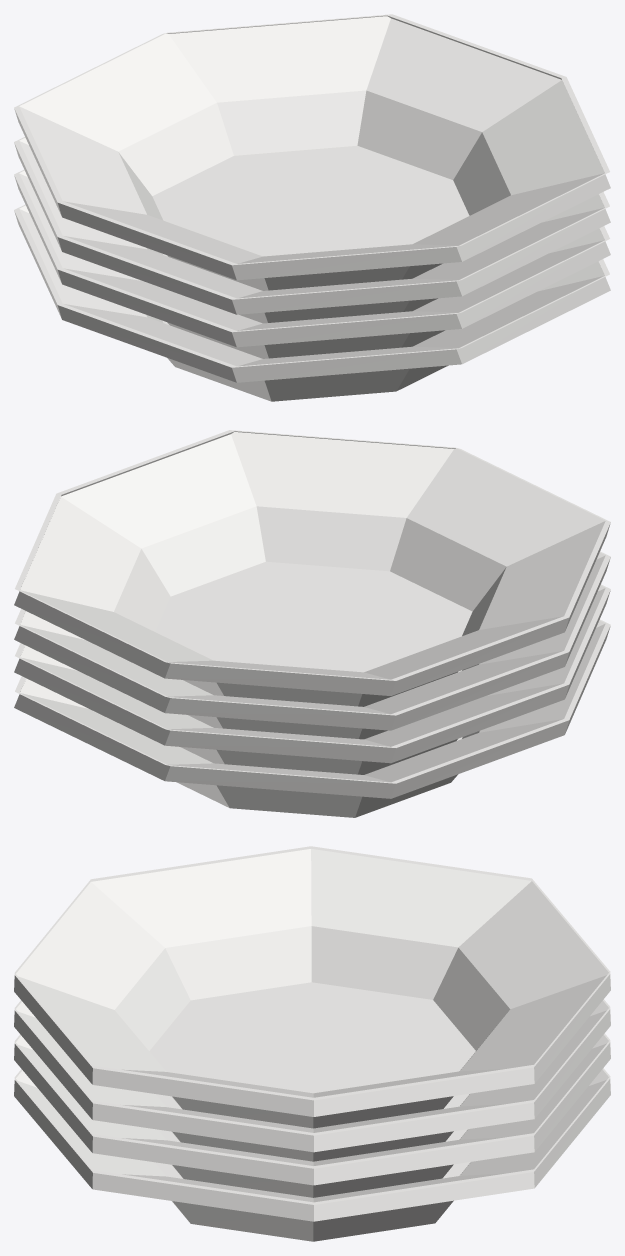
Rendered from Plates_2.fbx.
3 views of the same model, one above another, from view 1: azimuth 30°, elevation 25°; view 2: azimuth 150°, elevation 25°; view 3: azimuth 270°, elevation 25° (orthographic). The views are drawn at different scales.
Parts seen in each view (by area): view 1: Plates_2; view 2: Plates_2; view 3: Plates_2.
Boxes of the visible parts, left/top/right/bottom form: Plates_2: left=14, top=14, right=610, bottom=401; Plates_2: left=14, top=430, right=610, bottom=817; Plates_2: left=14, top=846, right=610, bottom=1241.
Bounding box in the file's own units: 32.34 × 32.06 × 11.73.
